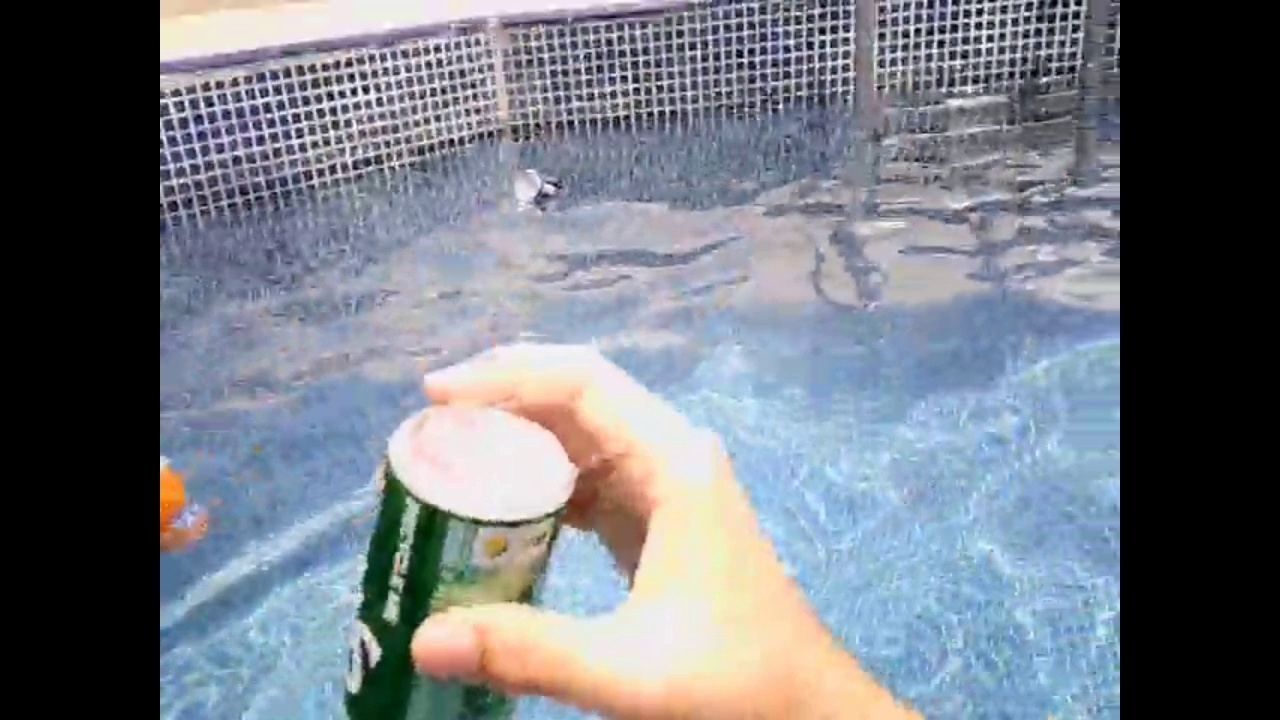debris: (323, 399, 586, 720), (161, 447, 214, 559), (509, 165, 571, 215)
